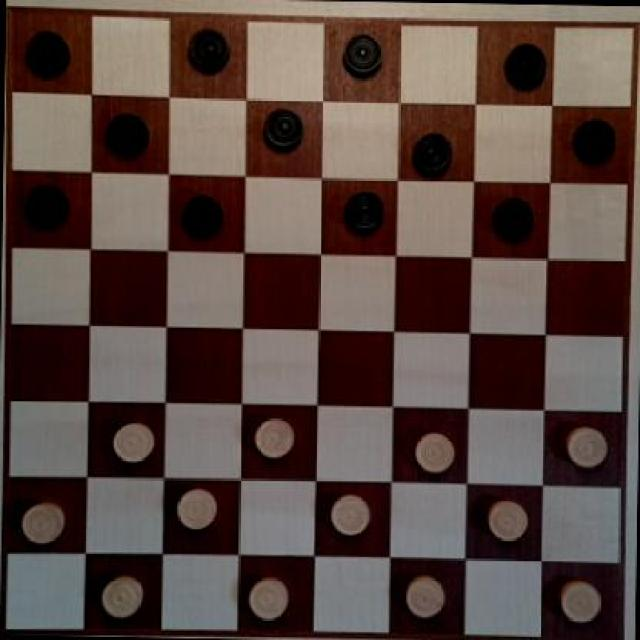BOARD: (7, 7, 630, 640)
black: (15, 175, 78, 230), (175, 185, 232, 242), (406, 125, 466, 177), (25, 22, 75, 81), (102, 106, 156, 160), (339, 184, 389, 240), (567, 114, 619, 167), (500, 40, 550, 90), (255, 105, 308, 152), (490, 193, 540, 240), (186, 22, 232, 73), (338, 30, 388, 76)
white: (550, 576, 608, 629), (558, 420, 612, 472), (16, 498, 71, 548), (400, 570, 450, 624), (245, 571, 293, 625), (480, 492, 528, 545), (98, 571, 148, 619), (173, 482, 219, 533), (326, 489, 372, 540), (108, 418, 156, 465), (411, 427, 454, 479), (252, 412, 298, 460)
